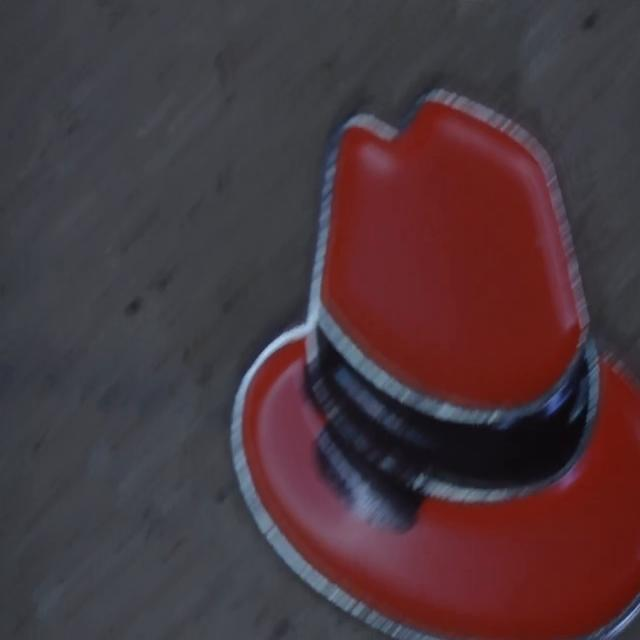Hatband: (308, 328, 599, 500)
Paint_Leak: (318, 424, 422, 530)
RedHatPin: (231, 91, 640, 638)
